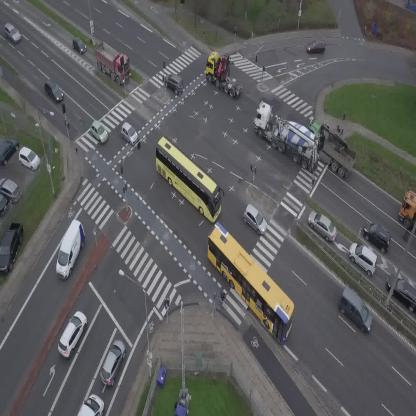bicycle: (217, 290, 228, 312)
bus: (190, 221, 308, 344), (141, 135, 235, 224)
car: (331, 285, 381, 334), (53, 308, 91, 359), (96, 337, 130, 388), (343, 239, 384, 278), (357, 217, 398, 255), (303, 207, 343, 244), (237, 202, 273, 236), (160, 70, 188, 96), (40, 78, 66, 105), (116, 121, 142, 147), (86, 119, 112, 145), (0, 21, 23, 45), (68, 34, 89, 57), (307, 39, 325, 54)
lorry: (242, 99, 334, 175), (300, 115, 363, 181), (196, 46, 255, 100), (85, 36, 139, 87), (49, 218, 91, 280), (399, 190, 416, 231), (78, 394, 104, 416)
